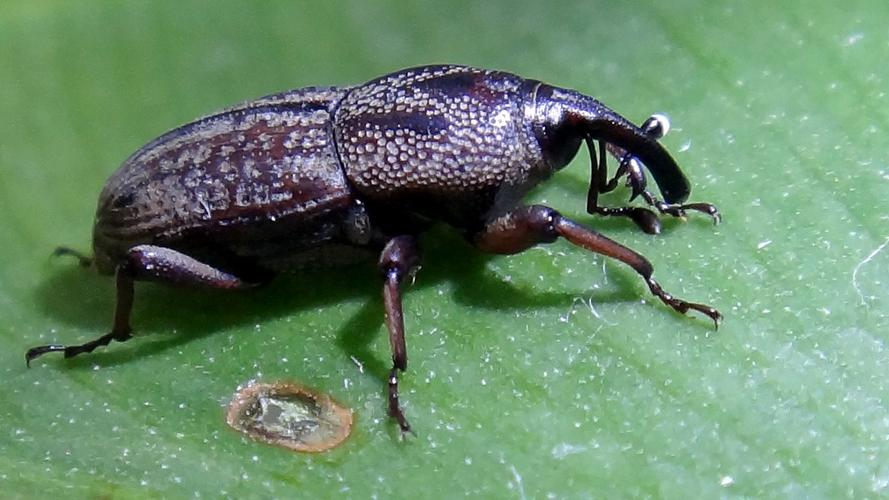Curculionidae: (24, 63, 725, 440)
